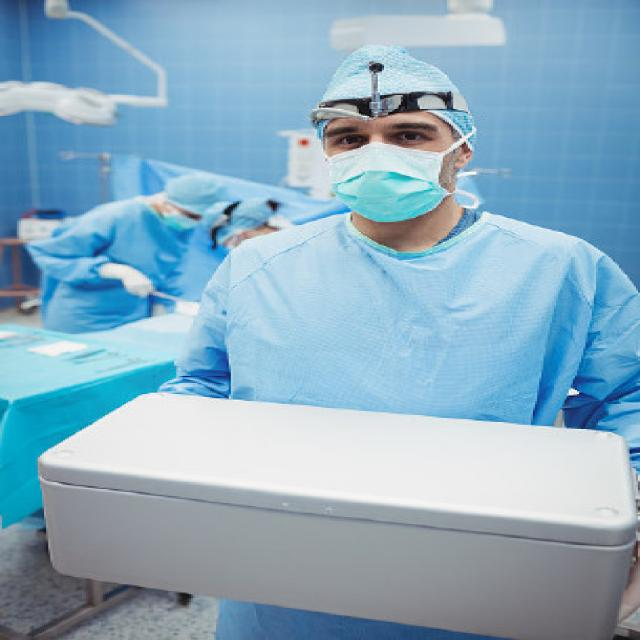mask: (321, 110, 451, 220)
